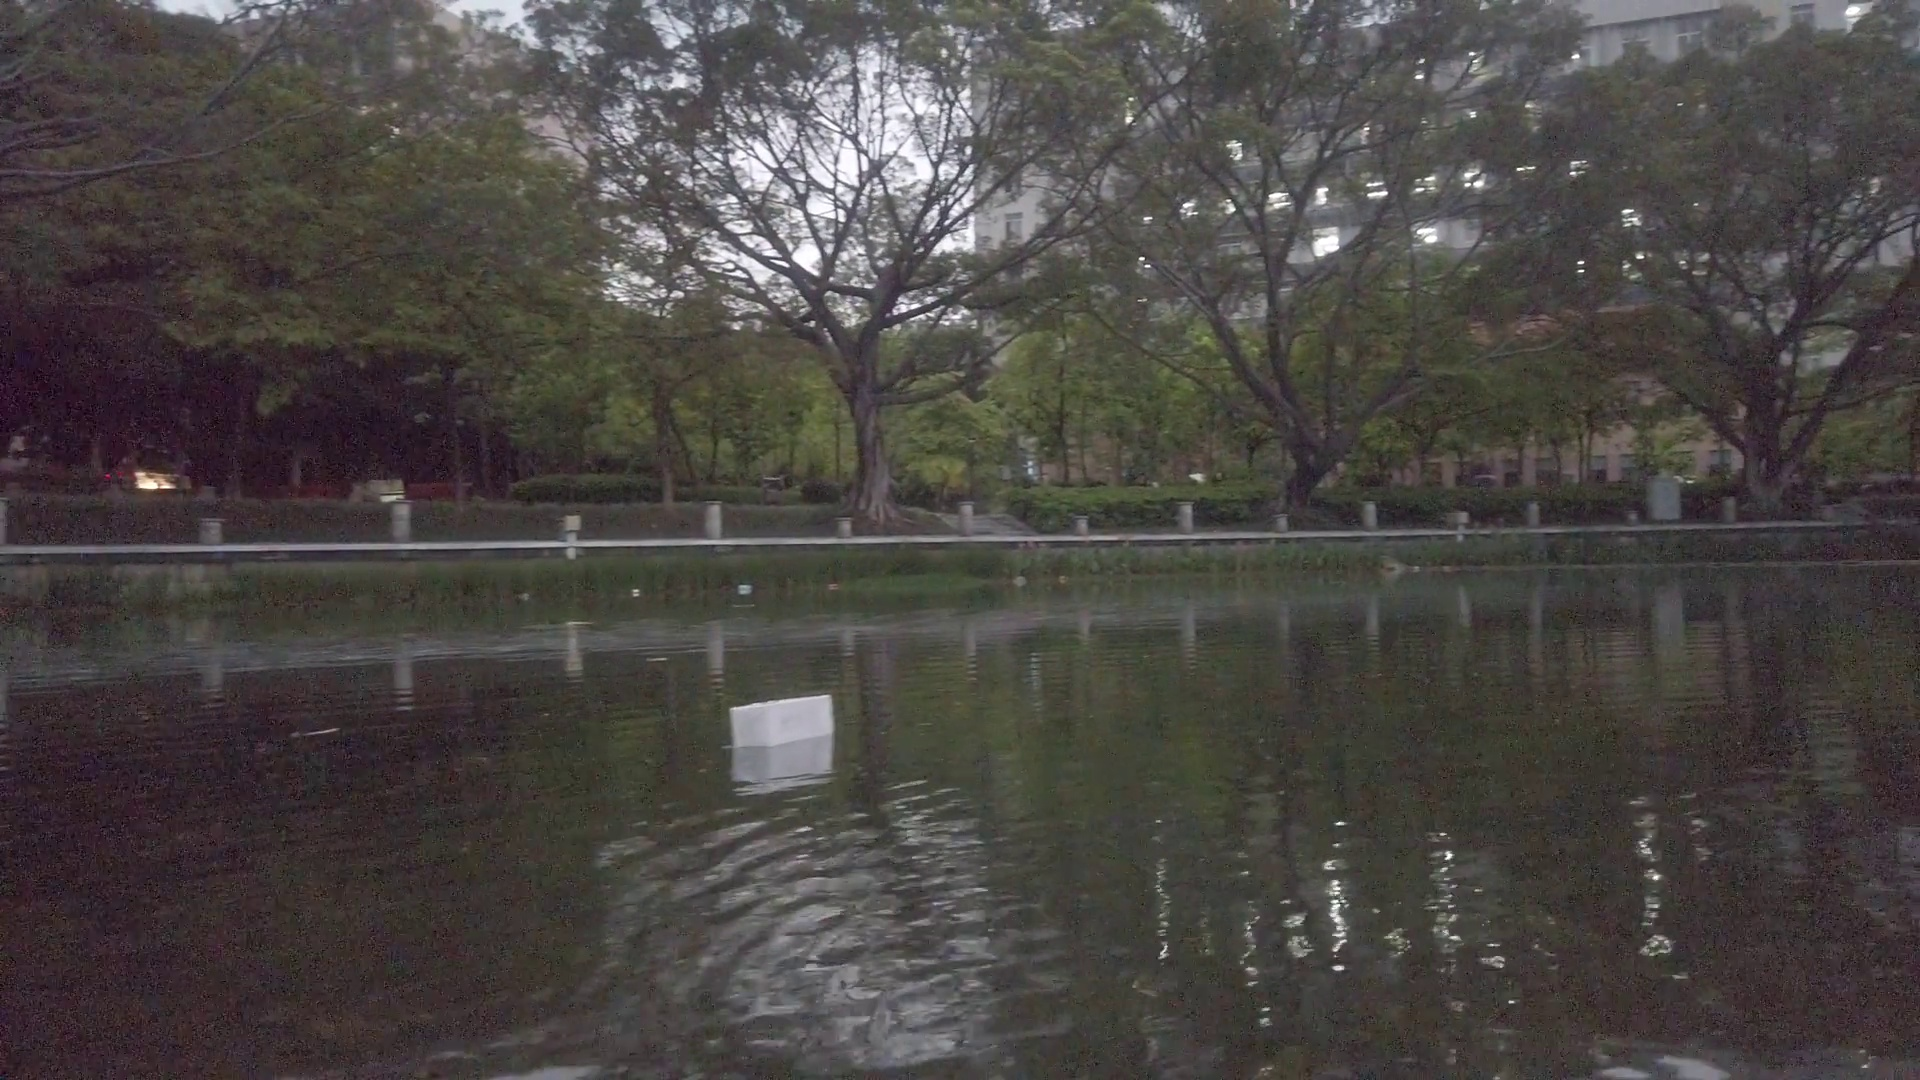carton: (727, 696, 835, 741)
